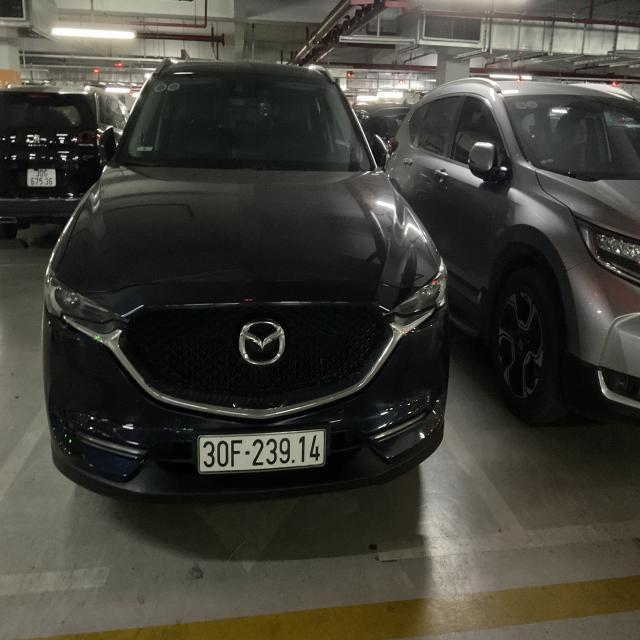license: (195, 427, 327, 474)
